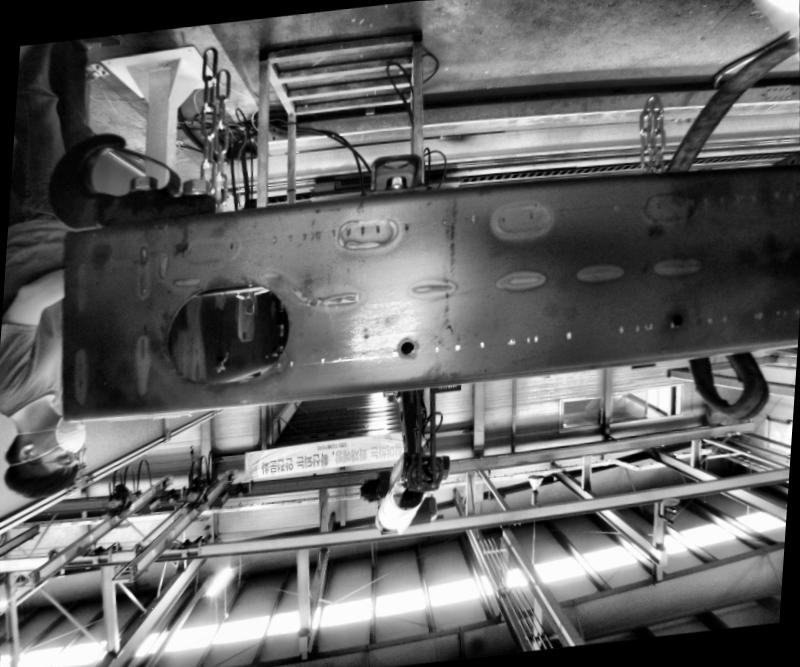bolt: (378, 172, 405, 192)
bracket: (344, 139, 438, 197)
hole: (147, 277, 294, 392), (394, 336, 414, 356)
